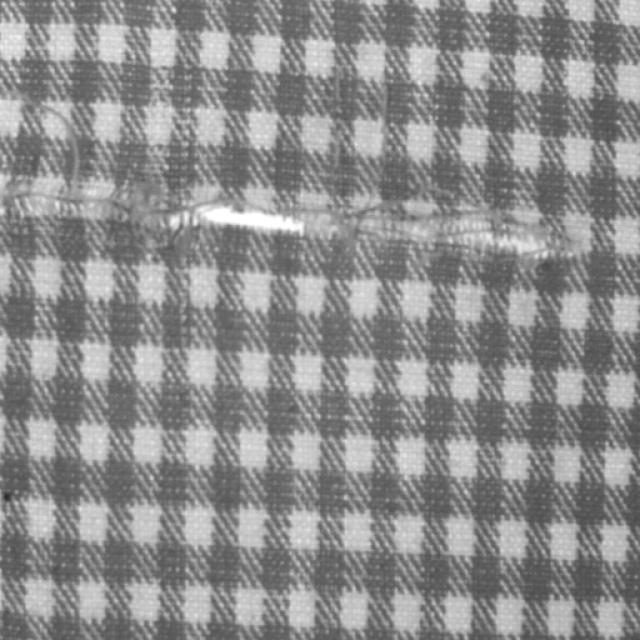Hole-Defect: (8, 179, 578, 261)
